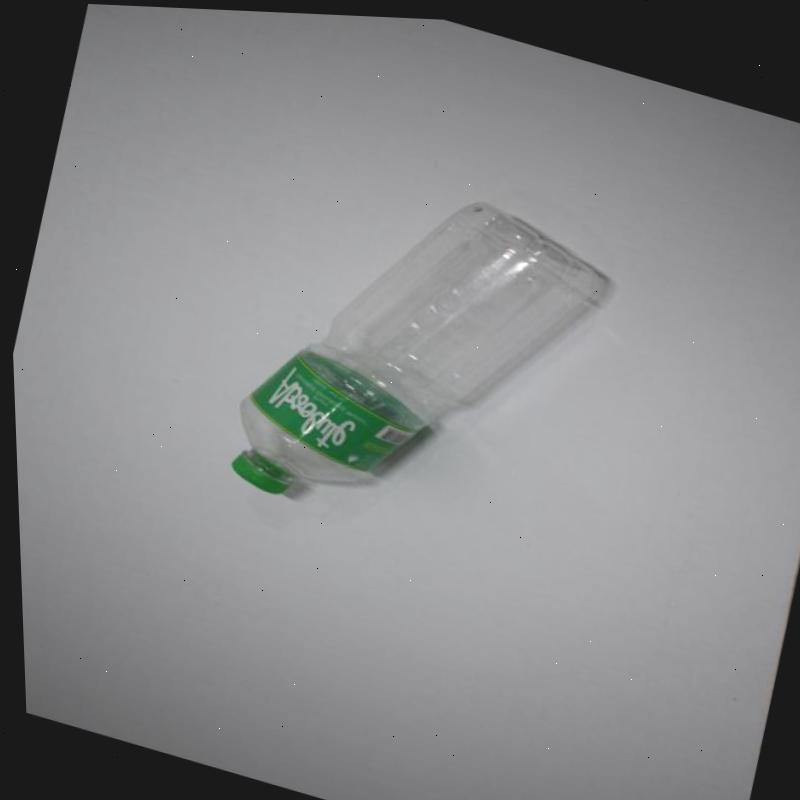botella: (207, 140, 631, 571)
